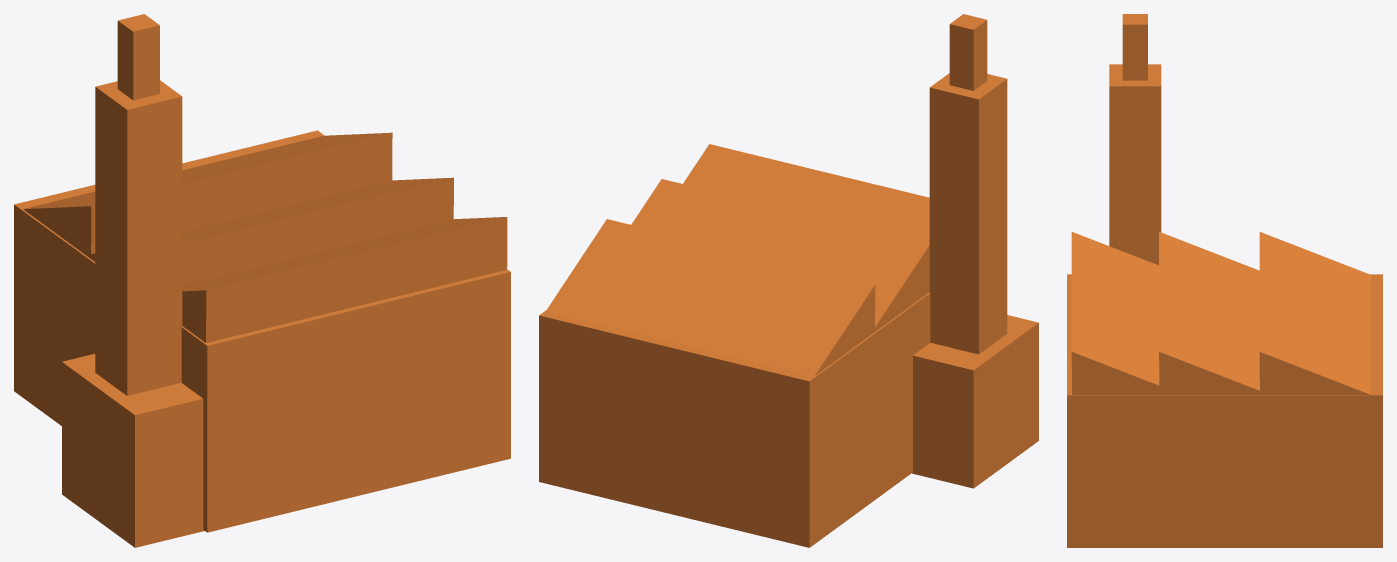
File: factory2.fbx
The picture shows the model from 3 angles, left to right: view 1: azimuth 30°, elevation 25°; view 2: azimuth 150°, elevation 25°; view 3: azimuth 270°, elevation 25°; orthographic projection. The views are drawn at different scales.
Visible parts, largest first — view 1: Cube; view 2: Cube; view 3: Cube.
Part boxes in pixels (box(x1,y1,x2,y2)): Cube: box(14, 14, 510, 547); Cube: box(539, 14, 1038, 547); Cube: box(1067, 14, 1382, 547).
Bounding box in the file's own units: 1347 × 1689 × 1214.
